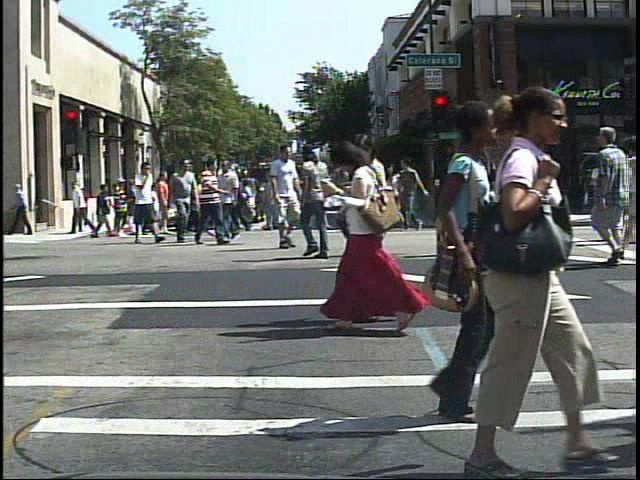person: (448, 80, 593, 480), (317, 139, 418, 339), (356, 128, 403, 332), (457, 134, 506, 262), (291, 134, 338, 262), (596, 120, 634, 267), (507, 140, 552, 258), (335, 148, 381, 261), (263, 141, 305, 251), (190, 153, 229, 247), (590, 146, 622, 247), (168, 156, 203, 248), (127, 158, 162, 246), (109, 175, 133, 241), (75, 182, 95, 228)
